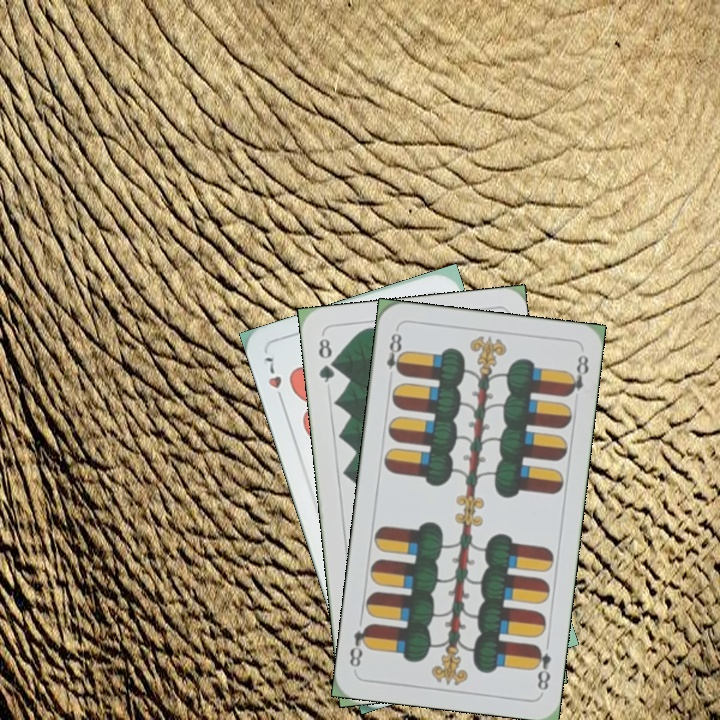E8: (382, 325, 407, 378), (529, 640, 554, 693)
G8: (314, 334, 338, 385)
H7: (260, 353, 288, 408)
